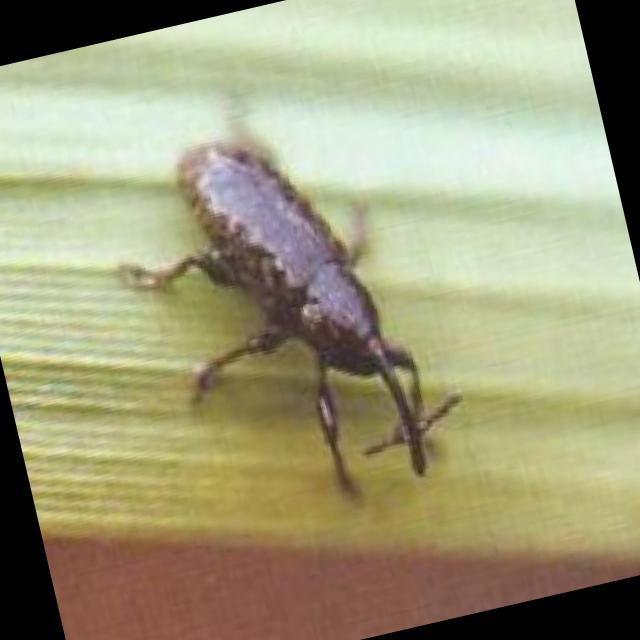rice-bug: (148, 100, 443, 518)
